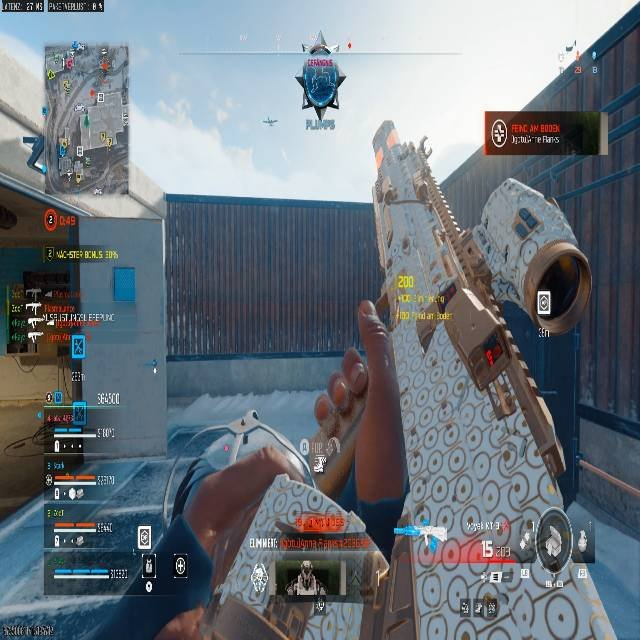player: (295, 43, 347, 122)
